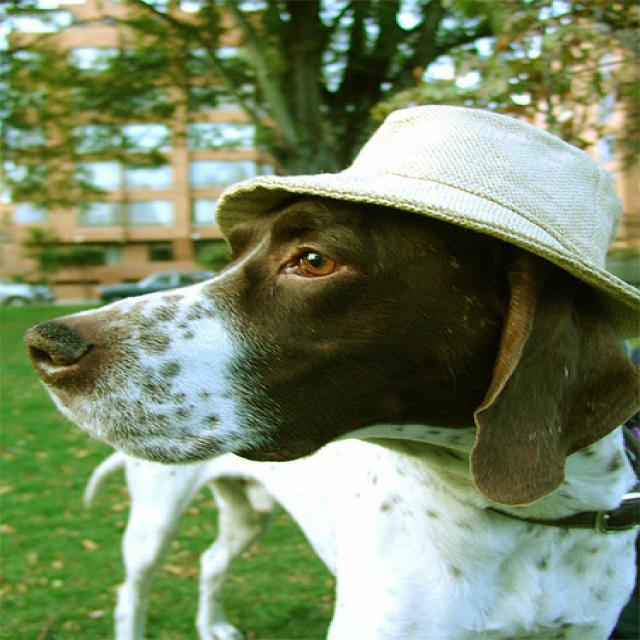Vehicle: (102, 272, 211, 303), (0, 279, 37, 308)
